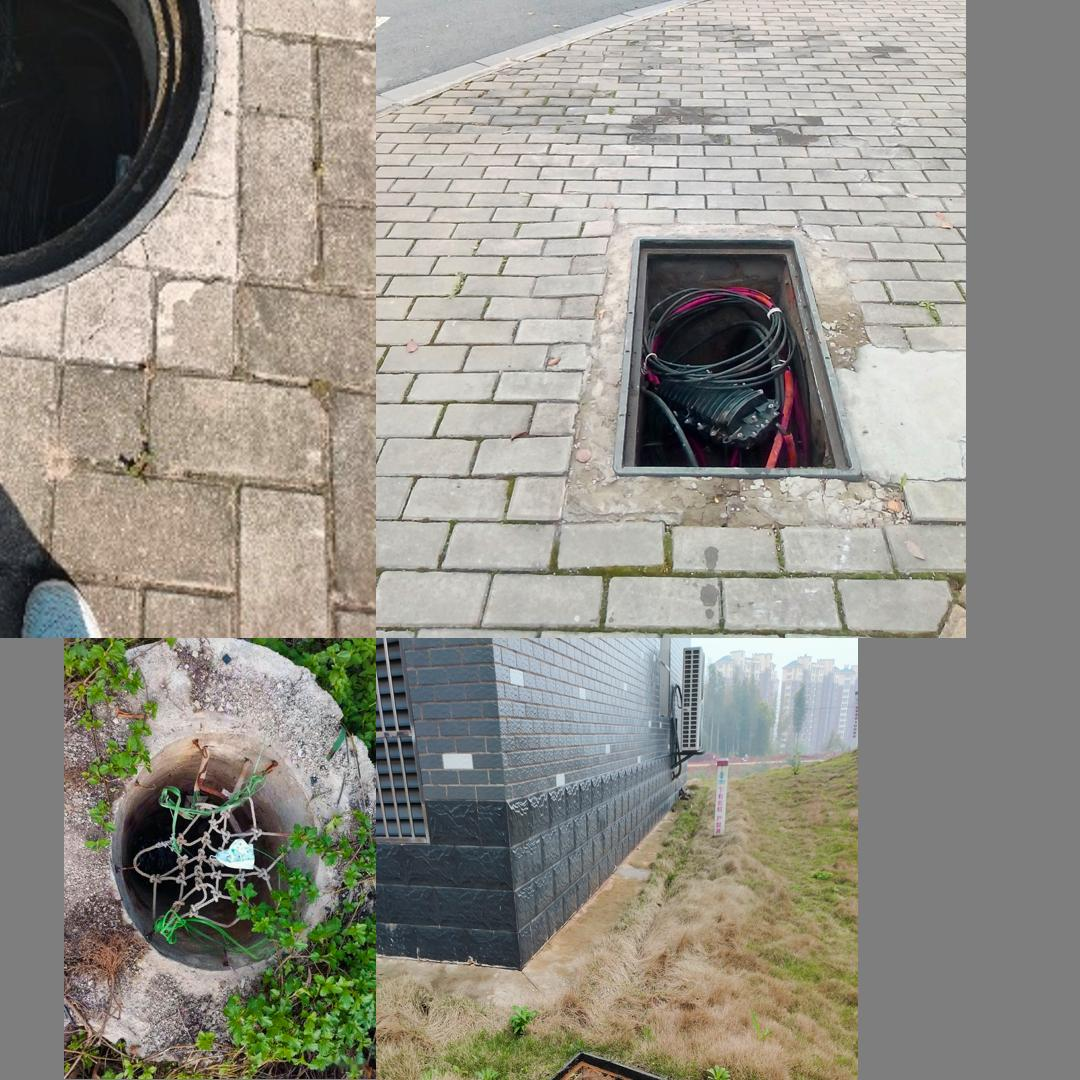lose: (550, 216, 879, 537), (96, 726, 354, 1015), (0, 0, 220, 306), (518, 1051, 739, 1080)
